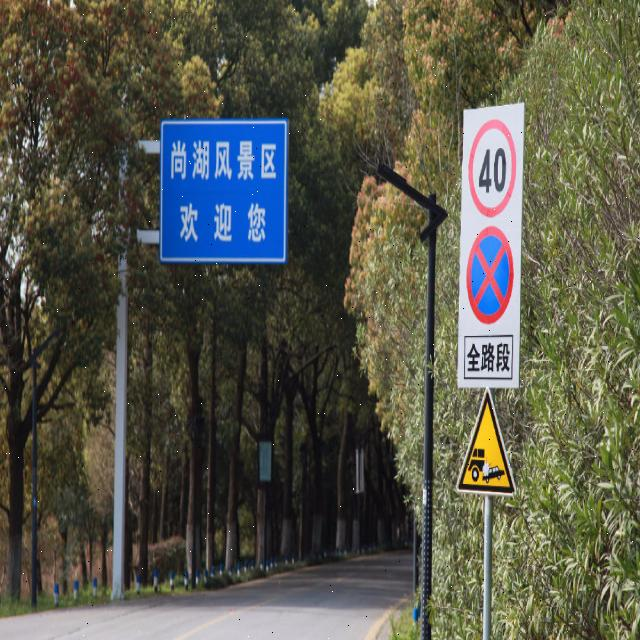speed limit 40: (467, 121, 517, 219)
